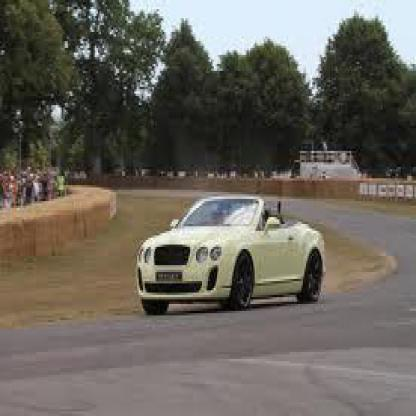Vehicle: (134, 190, 330, 324)
